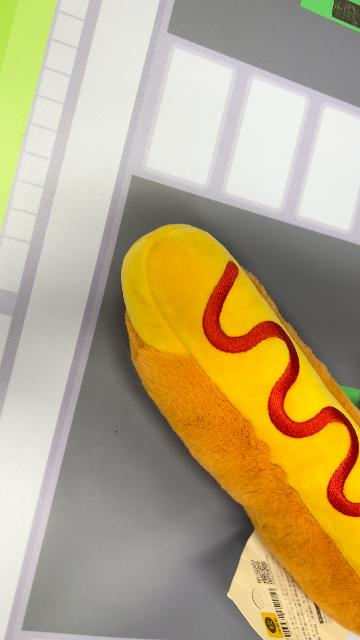hotdog: (121, 222, 359, 636)
